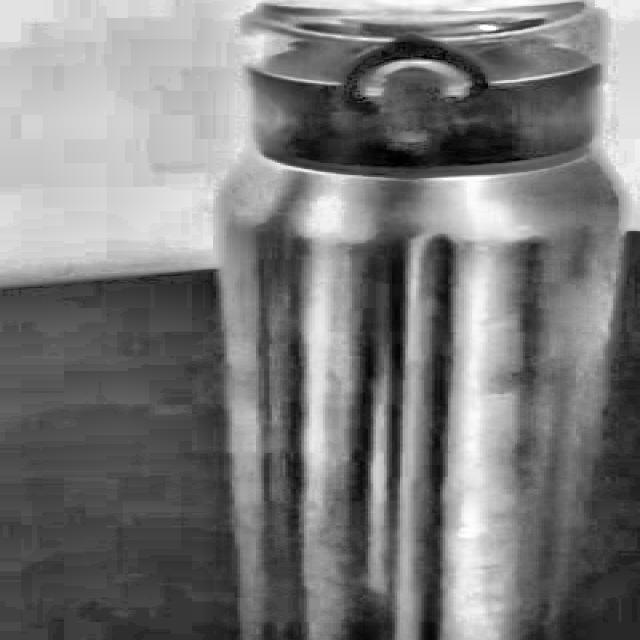bottle: (216, 0, 632, 640)
